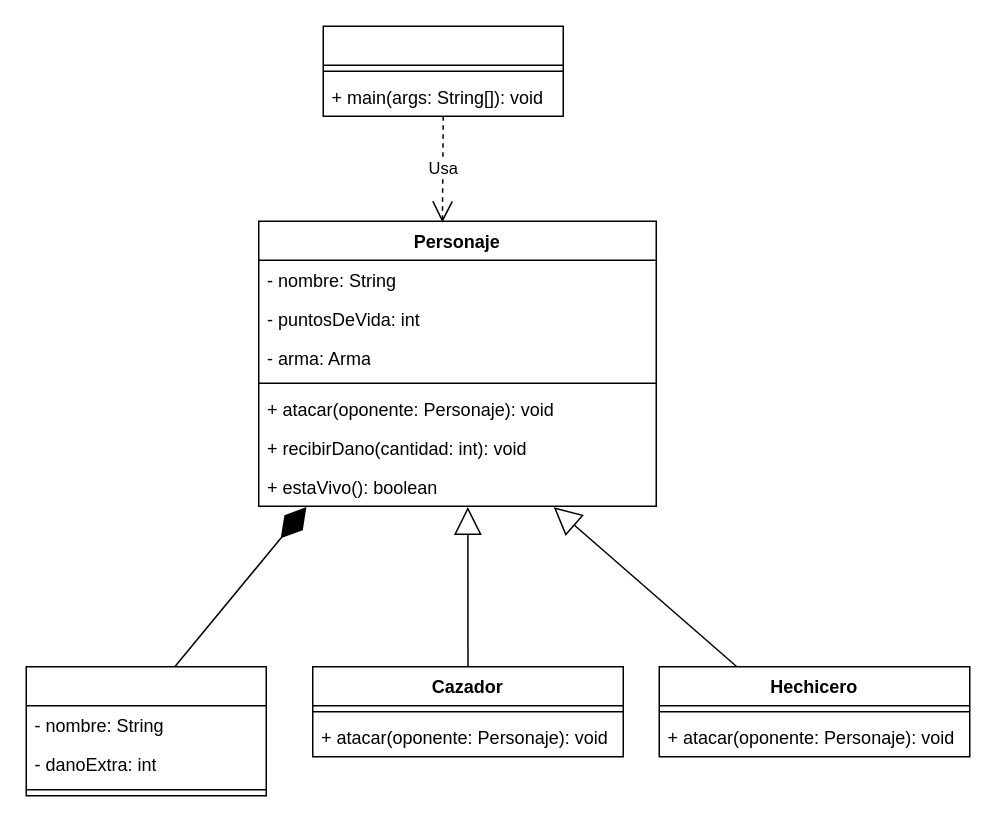
The diagram is 996 pixels wide and 822 high, and some of its shapes have lost their labels. Each missing label, with the box of its shape:
Arma: (25, 665, 266, 796)
JuegoLucha: (322, 25, 563, 116)
